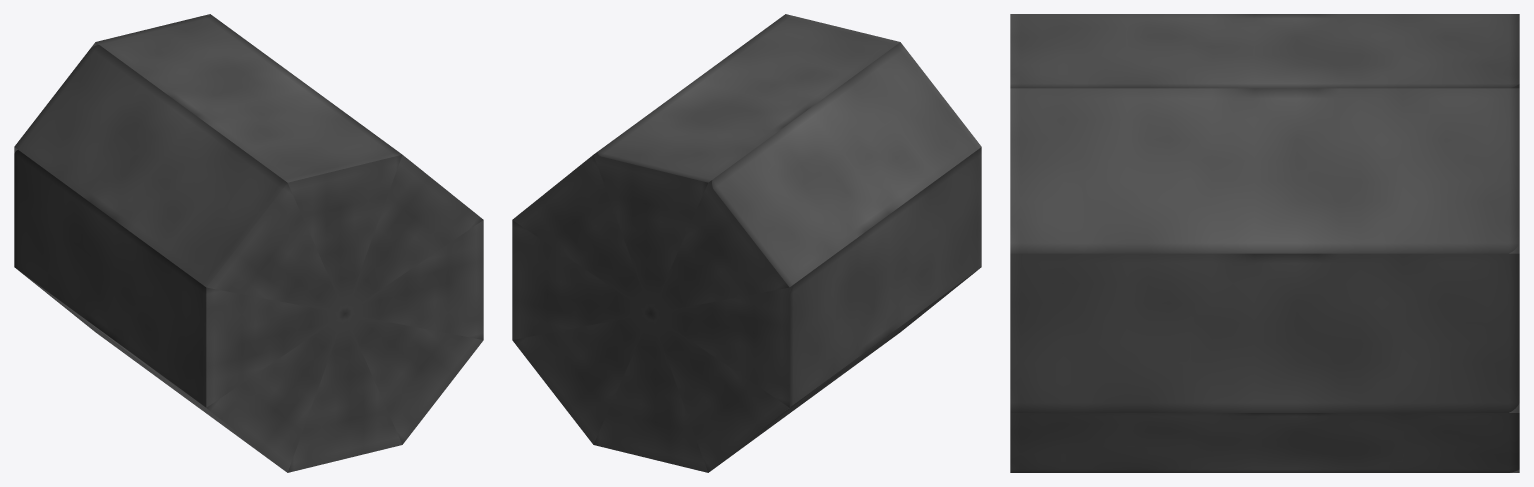
File: bearing_shaft.obj
The picture shows the model from 3 angles, left to right: view 1: azimuth 30°, elevation 25°; view 2: azimuth 150°, elevation 25°; view 3: azimuth 270°, elevation 25°; orthographic projection. The views are drawn at different scales.
Parts seen in each view (by area): view 1: cylinder; view 2: cylinder; view 3: cylinder.
Part boxes in pixels (<box>): cylinder: <box>14,14,483,472</box>; cylinder: <box>512,14,981,472</box>; cylinder: <box>1010,14,1519,472</box>.
Size of the model in its own units: 0.625 by 0.625 by 0.75.
